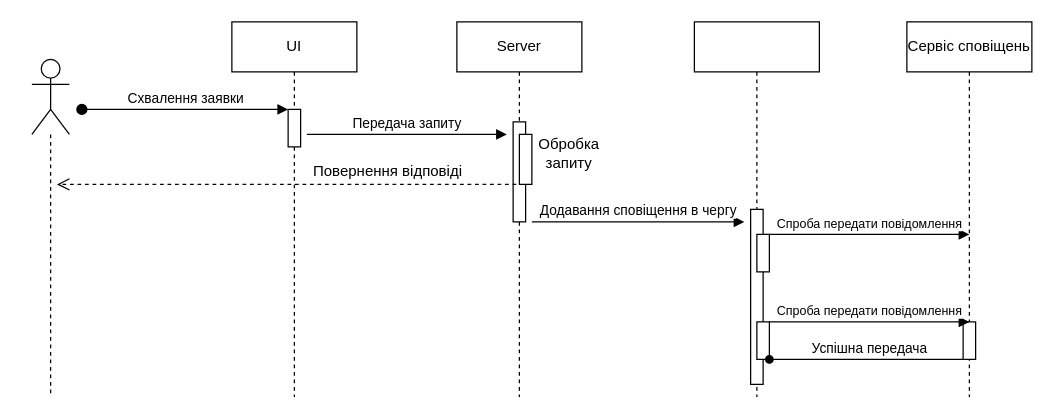
This 1054x420 diagram has some shape labels left out. Each missing label, with the centre of its shape:
"Manager" belongs at point (50, 96).
"Брокер" belongs at point (756, 209).
